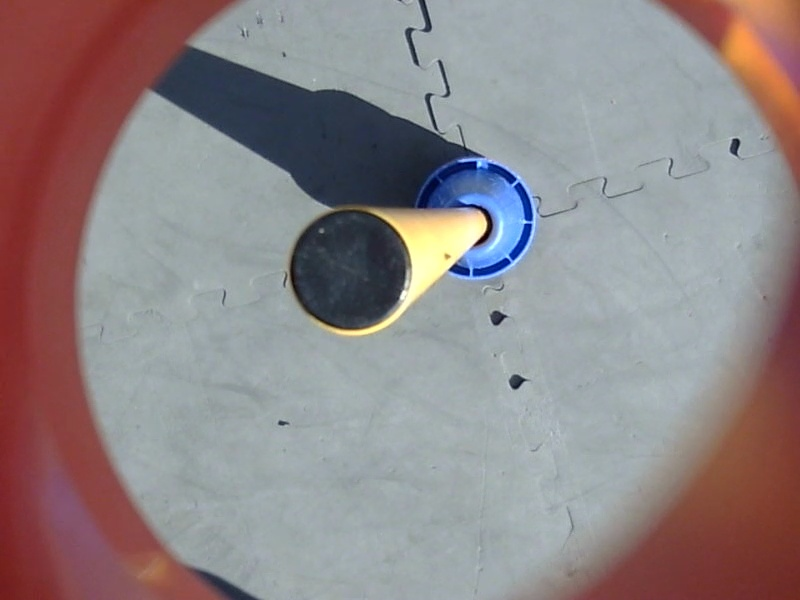tip: (283, 201, 422, 342)
